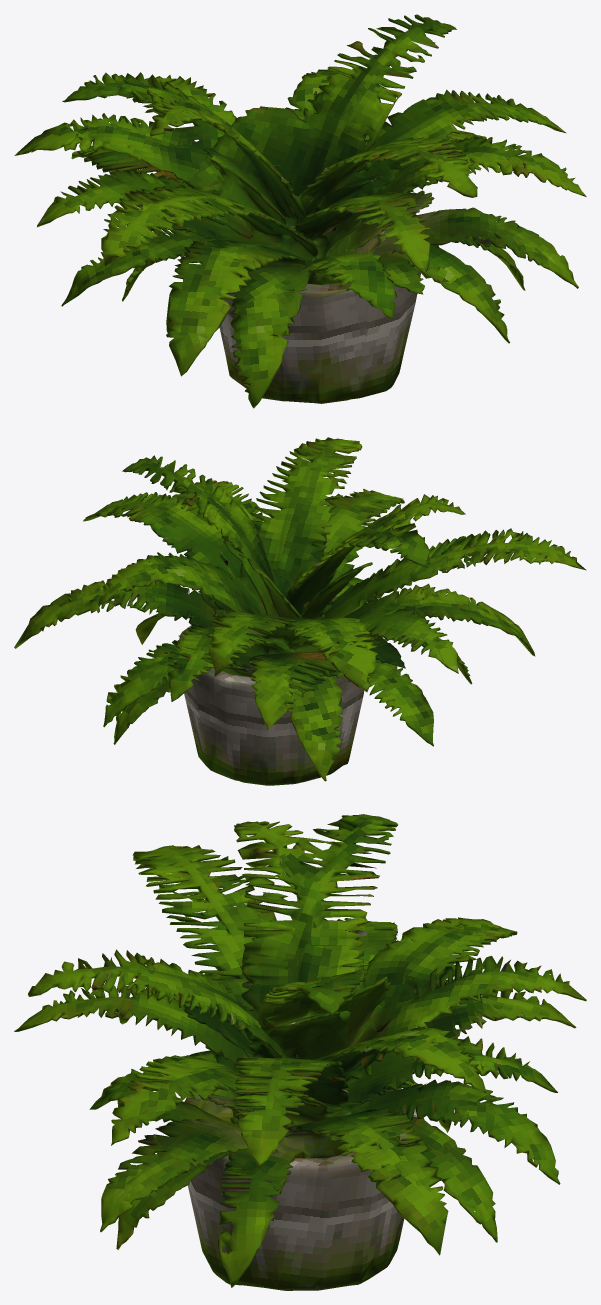
The model's file is fern_pot_psx.glb.
The picture shows the model from 3 angles, top to bottom: view 1: azimuth 30°, elevation 25°; view 2: azimuth 150°, elevation 25°; view 3: azimuth 270°, elevation 25°; orthographic projection. The views are drawn at different scales.
Visible parts, largest first — view 1: fern_pot_geo; view 2: fern_pot_geo; view 3: fern_pot_geo.
Boxes of the visible parts, x1=… form: fern_pot_geo: x1=14, y1=14, x2=586, y2=408; fern_pot_geo: x1=14, y1=437, x2=586, y2=785; fern_pot_geo: x1=14, y1=814, x2=586, y2=1290.
Size of the model in its own units: 0.4135 by 0.2415 by 0.3611.
Materials: 1 (1 with a texture image).
